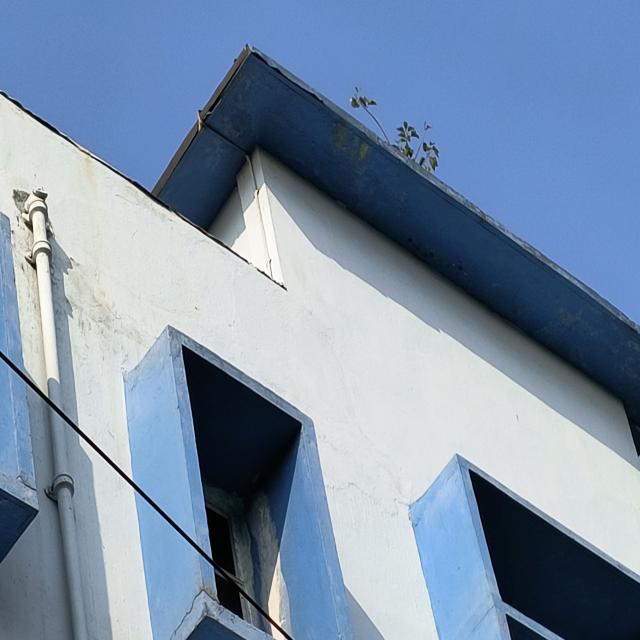Moss growth due to damping: (344, 83, 440, 175)
pollution -moisture induced blackening: (248, 45, 640, 335)
